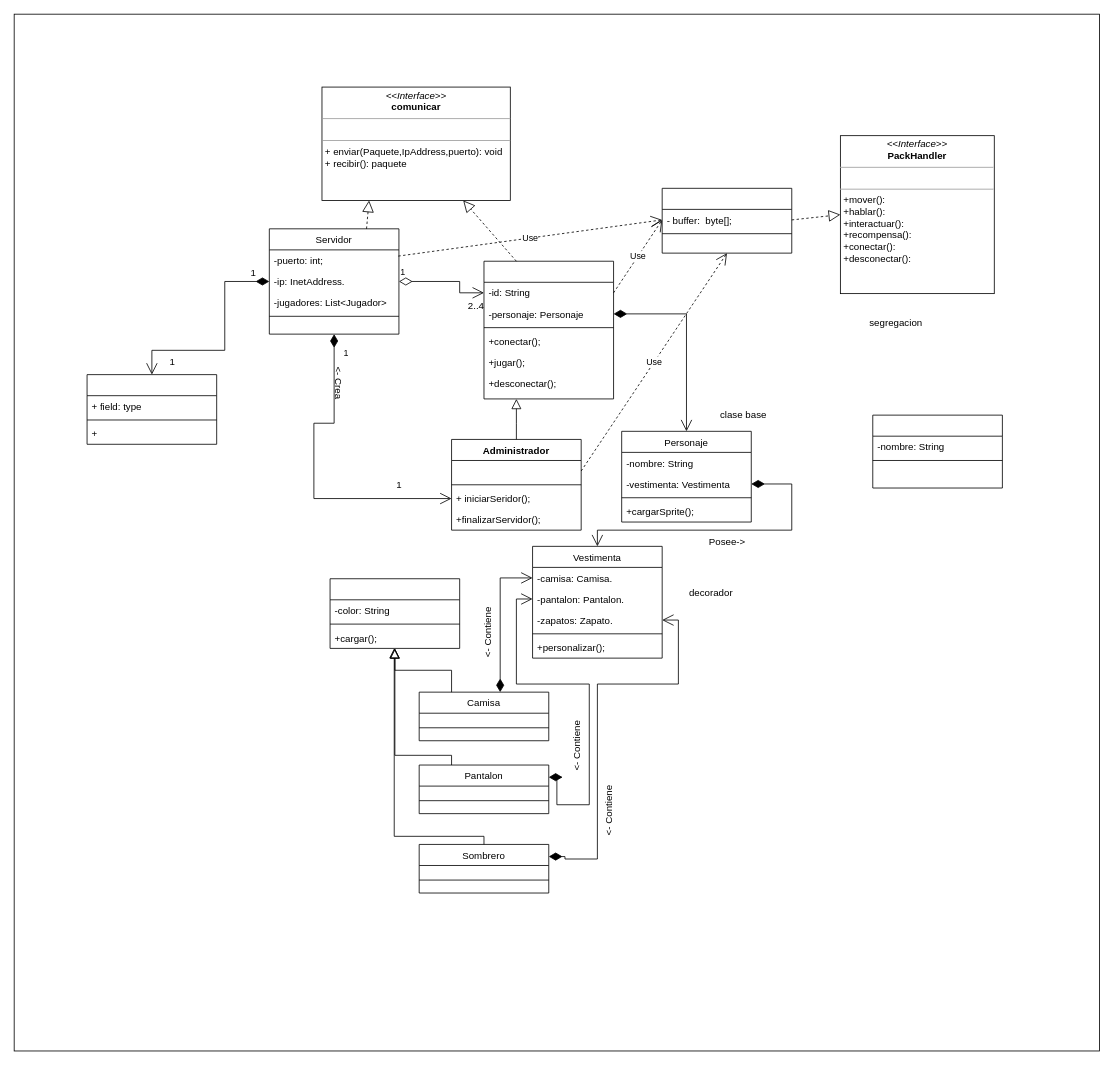
This 1114x1065 diagram has some shape labels left out. Here are the shapes that lost their labels. From the top down, the box of each, then its label:
(661, 188, 792, 253): Paquete
(483, 260, 614, 399): Jugador
(86, 374, 217, 444): PanelJuego
(872, 414, 1002, 488): NPC
(329, 578, 460, 648): Ropa
